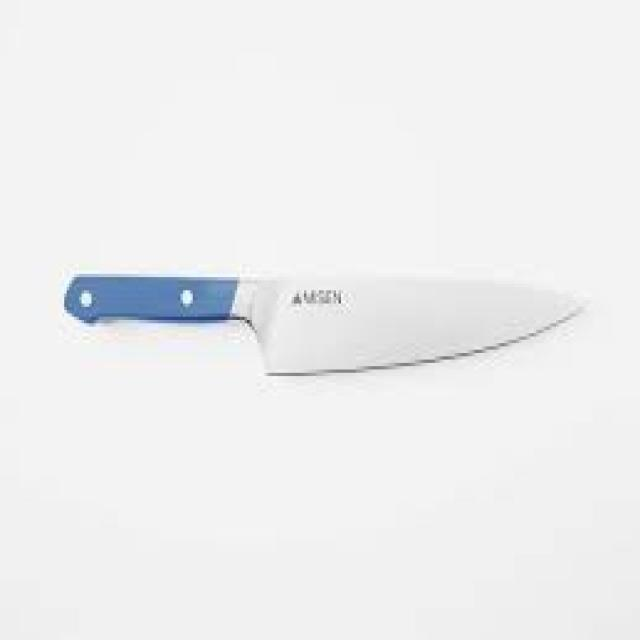knives: (57, 257, 590, 383)
